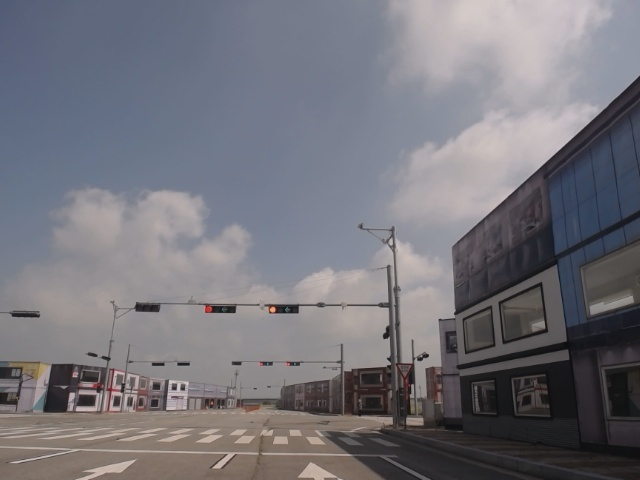left_green_4: (205, 304, 236, 314)
